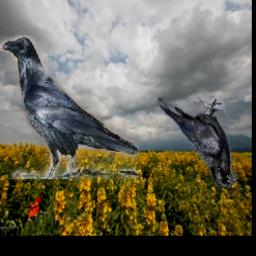Crow: (0, 35, 139, 179), (158, 98, 236, 188)
